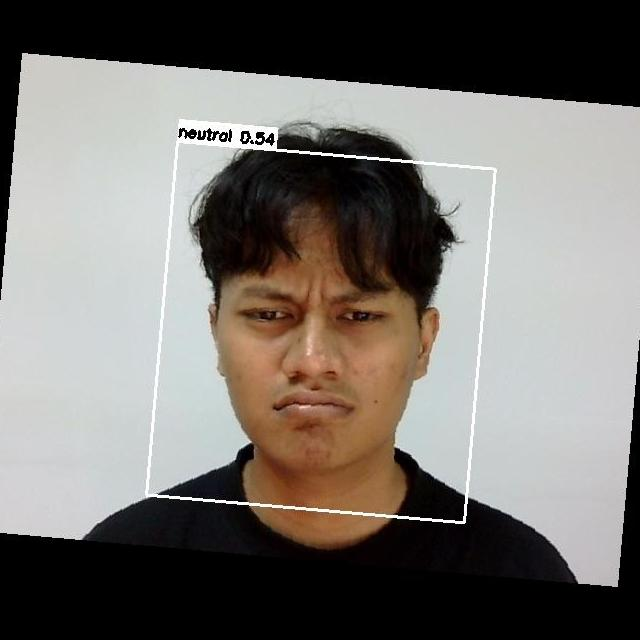Sad: (222, 258, 427, 452)
